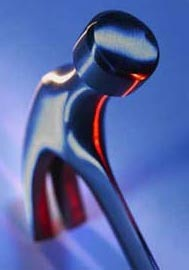hammer: (21, 7, 165, 270)
